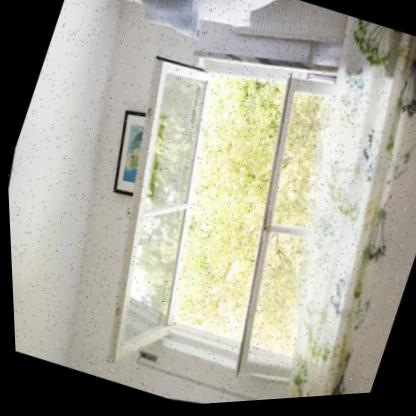Window: (37, 7, 405, 414)
